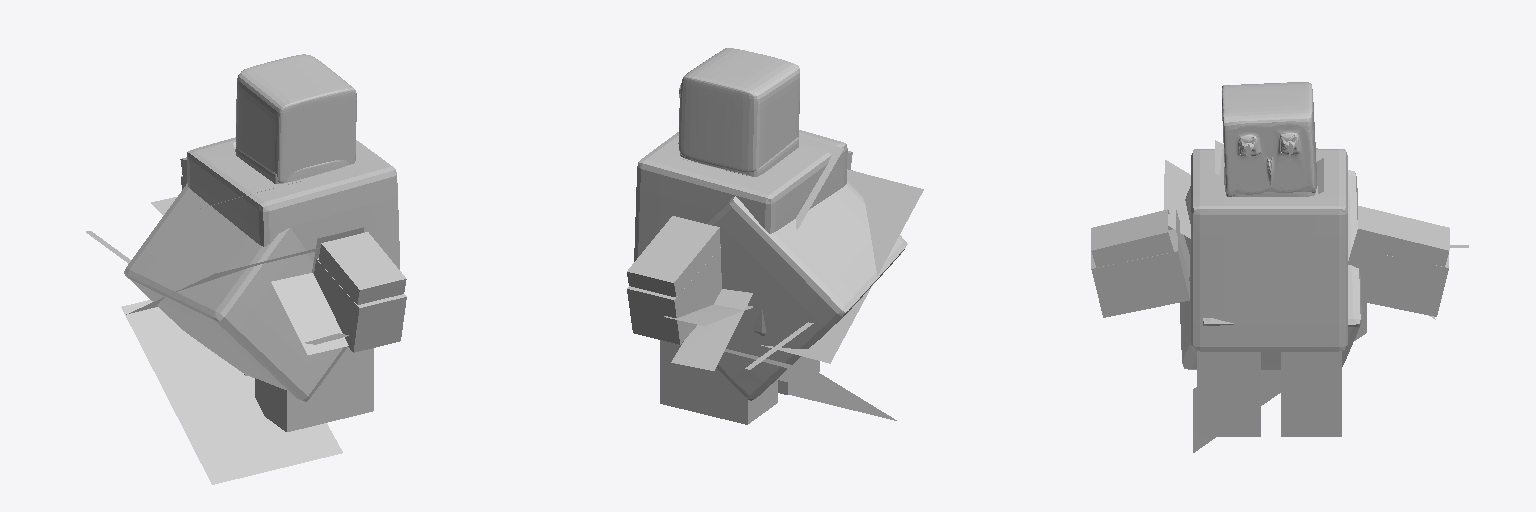
The picture shows the model from 3 angles: view 1: azimuth 30°, elevation 25°; view 2: azimuth 150°, elevation 25°; view 3: azimuth 270°, elevation 25°; orthographic projection.
Visible parts, largest first — view 1: Cube_Cube.001, RectT2_Plane.001, CollisionT_Cube.006, CollisionH_Cube.008, CollisionLL_Cube.003, CollisionLA_Cube.013, Cube.005_Cube.007, RectLA1_Plane.003, Cube.001_Cube.002, Cube.006_Cube.009, RectT1_Plane; view 2: Cube_Cube.001, CollisionT_Cube.006, CollisionH_Cube.008, RectT1_Plane, Cube.003_Cube.004, CollisionRA_Cube.011, Cube.004_Cube.005, RectRA1_Plane.004, RectT2_Plane.001, RectH1_Plane.006, RectRA2_Plane.005, Cube.001_Cube.002; view 3: CollisionT_Cube.006, CollisionH_Cube.008, Cube.003_Cube.004, Cube.005_Cube.007, Cube.004_Cube.005, CollisionRA_Cube.011, CollisionLA_Cube.013, Cube.006_Cube.009, Cube_Cube.001, CollisionLL_Cube.003, RectT1_Plane, RectT2_Plane.001.
Part boxes in pixels (bbox=[...]): Cube_Cube.001: bbox=[124, 183, 347, 401]; RectT2_Plane.001: bbox=[121, 300, 342, 484]; CollisionT_Cube.006: bbox=[187, 137, 399, 269]; CollisionH_Cube.008: bbox=[236, 54, 356, 182]; CollisionLL_Cube.003: bbox=[274, 347, 373, 431]; CollisionLA_Cube.013: bbox=[312, 227, 406, 304]; Cube.005_Cube.007: bbox=[314, 258, 406, 352]; RectLA1_Plane.003: bbox=[271, 273, 348, 354]; Cube.001_Cube.002: bbox=[235, 147, 349, 183]; Cube.006_Cube.009: bbox=[255, 378, 285, 430]; RectT1_Plane: bbox=[126, 247, 320, 314]; Cube_Cube.001: bbox=[704, 182, 907, 400]; CollisionT_Cube.006: bbox=[634, 130, 847, 335]; CollisionH_Cube.008: bbox=[678, 48, 799, 171]; RectT1_Plane: bbox=[761, 169, 923, 363]; Cube.003_Cube.004: bbox=[660, 340, 777, 424]; CollisionRA_Cube.011: bbox=[627, 216, 720, 297]; Cube.004_Cube.005: bbox=[627, 247, 721, 344]; RectRA1_Plane.004: bbox=[671, 289, 752, 370]; RectT2_Plane.001: bbox=[724, 349, 896, 420]; RectH1_Plane.006: bbox=[796, 137, 843, 229]; RectRA2_Plane.005: bbox=[664, 305, 752, 325]; Cube.001_Cube.002: bbox=[680, 137, 798, 176]; CollisionT_Cube.006: bbox=[1191, 148, 1347, 351]; CollisionH_Cube.008: bbox=[1222, 82, 1316, 196]; Cube.003_Cube.004: bbox=[1281, 351, 1341, 436]; Cube.005_Cube.007: bbox=[1091, 229, 1189, 317]; Cube.004_Cube.005: bbox=[1352, 249, 1448, 316]; CollisionRA_Cube.011: bbox=[1348, 206, 1449, 266]; CollisionLA_Cube.013: bbox=[1091, 209, 1189, 276]; Cube.006_Cube.009: bbox=[1199, 351, 1260, 436]; Cube_Cube.001: bbox=[1180, 170, 1361, 369]; CollisionLL_Cube.003: bbox=[1197, 351, 1258, 436]; RectT1_Plane: bbox=[1164, 160, 1190, 238]; RectT2_Plane.001: bbox=[1193, 302, 1366, 452].
Bounding box in the file's own units: 2.15 × 3.45 × 3.36.